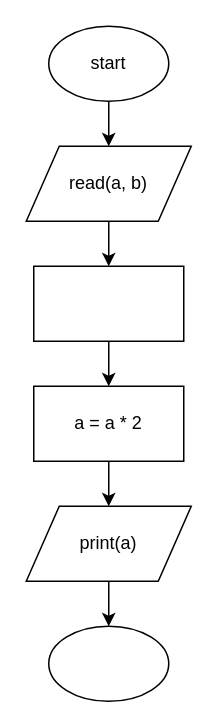
This 218x728 diagram has some shape labels left out. The shapes that lost their labels are listed below. From the top down, each one's box as (x1, y1, x2, y2) in pixels, then its label:
(32, 265, 184, 341): a = a + b
(47, 625, 169, 701): end
